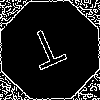T: (25, 25, 72, 79)
